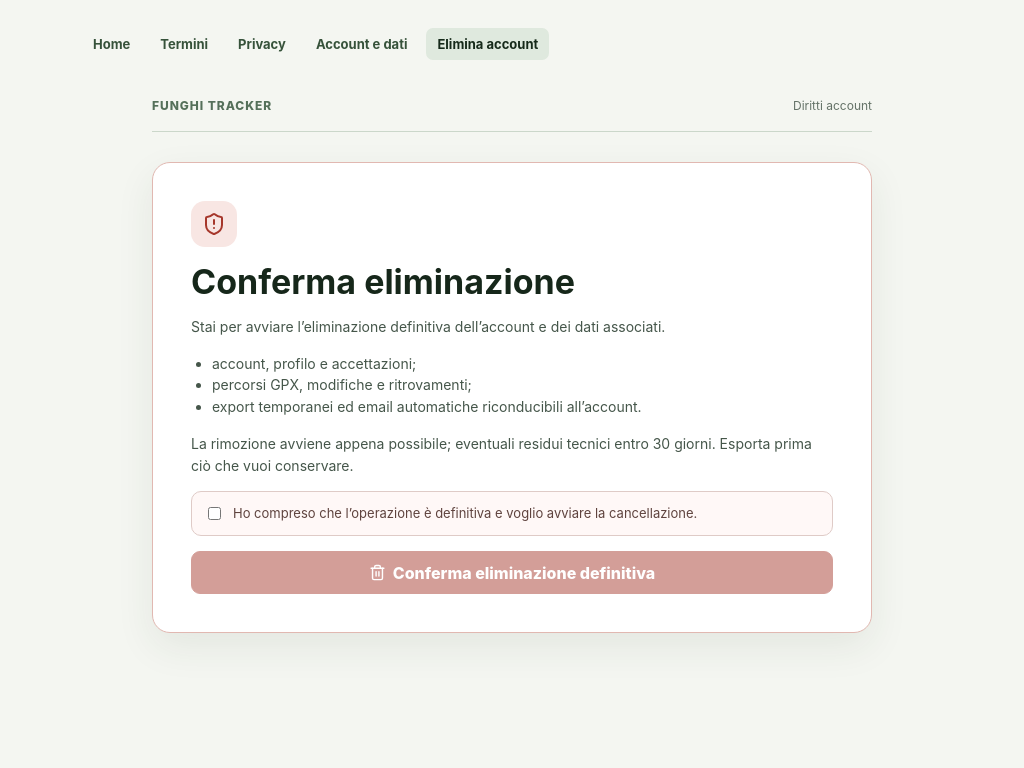
Test case: AccountDeletionPage › permette di ritentare un errore di rete senza riutilizzare automaticamente il token
Step 1. Click the checkbox → (214, 514), box [208,507,221,520]
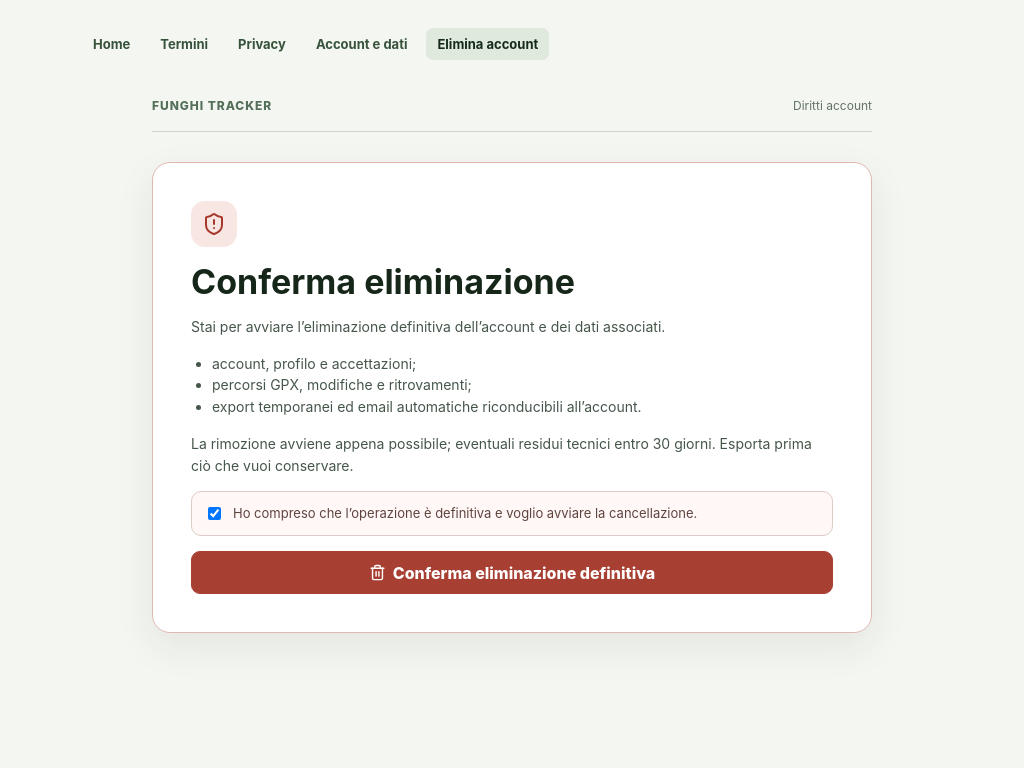
Step 2. Click the button "Conferma eliminazione definitiva" → (512, 573), box [191,551,833,594]
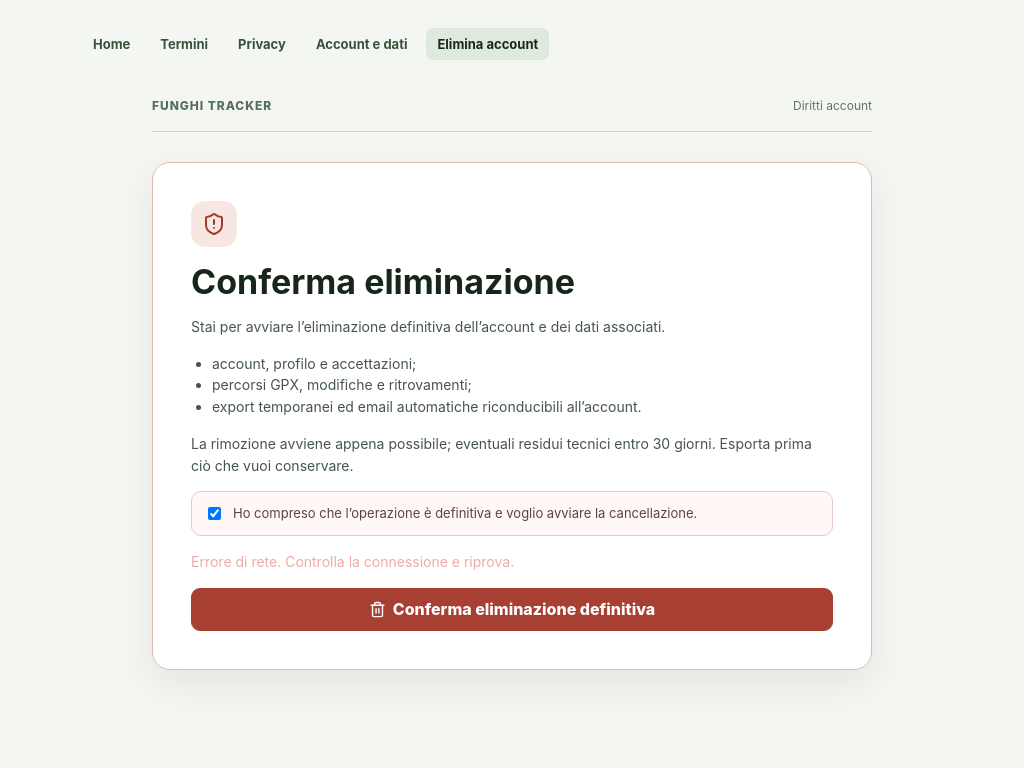
Expected: the button "Conferma eliminazione definitiva" is enabled
Expected: the message shows "Errore di rete", [191,553,514,570]
Step 3. Click the button "Conferma eliminazione definitiva" → (512, 609), box [191,588,833,631]
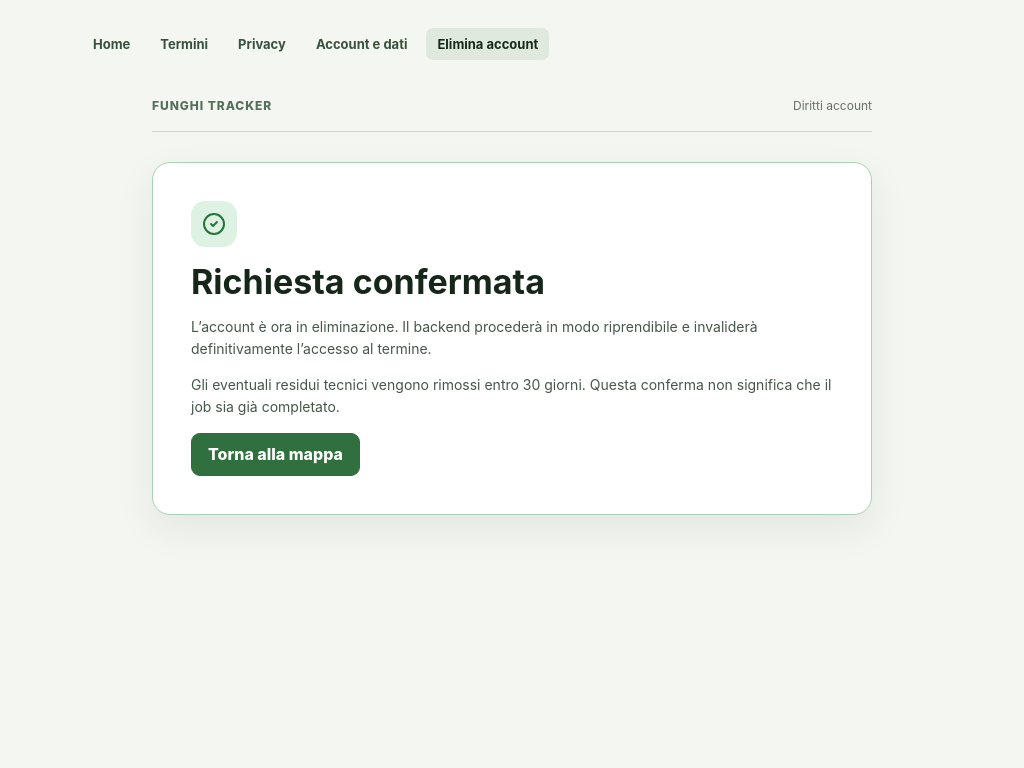
Expected: the heading "Richiesta confermata" is shown, [191,261,545,302]
